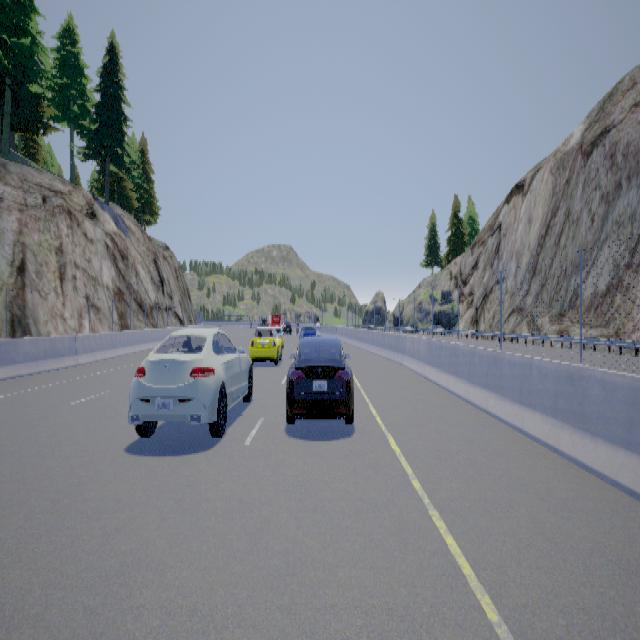vehicle: (129, 313, 254, 443), (287, 323, 355, 423), (250, 322, 284, 366)
